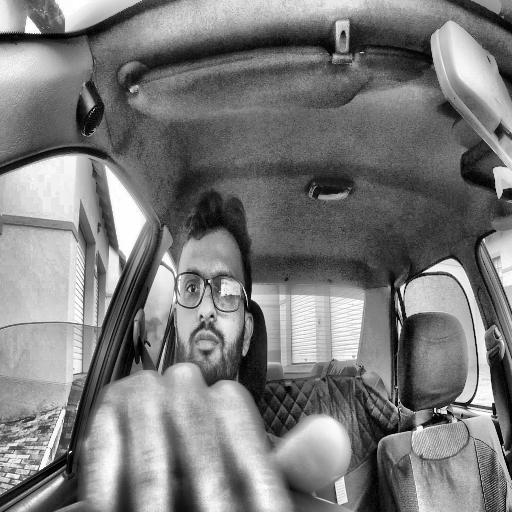awake: (173, 191, 254, 394)
